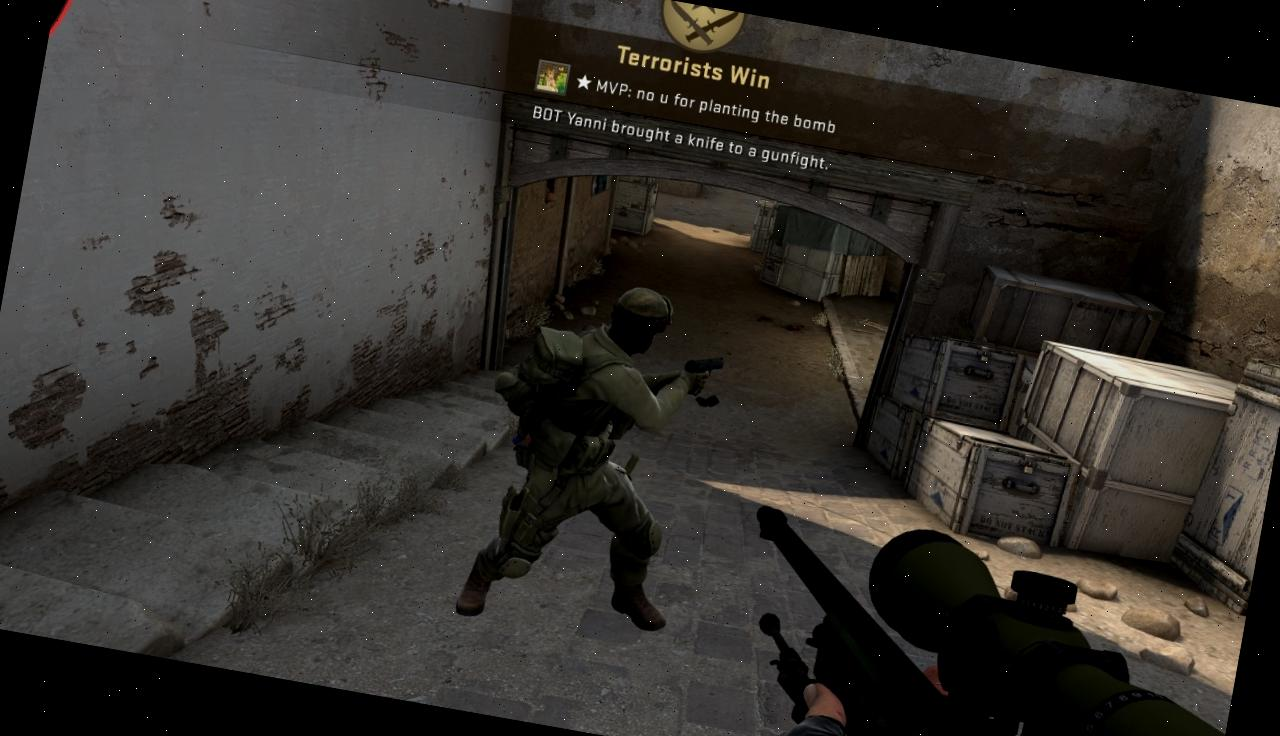ct: (470, 266, 702, 624)
cthead: (604, 282, 674, 360)
sniper: (712, 492, 1253, 736)
